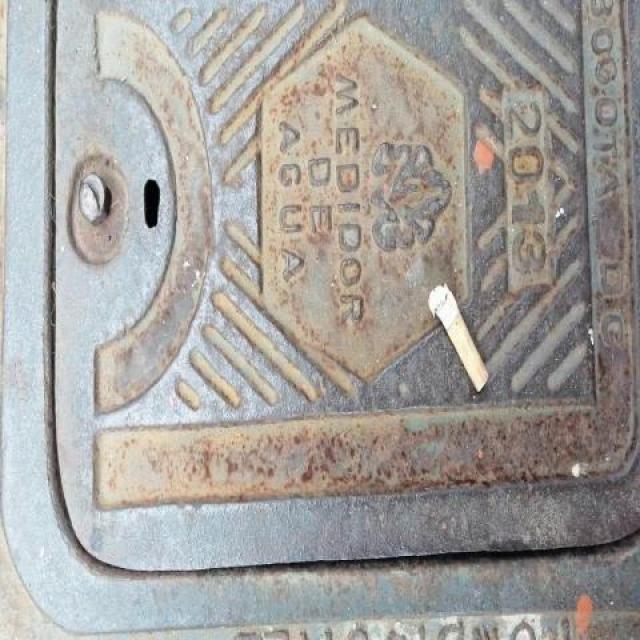non-organic waste: (424, 278, 492, 395)
